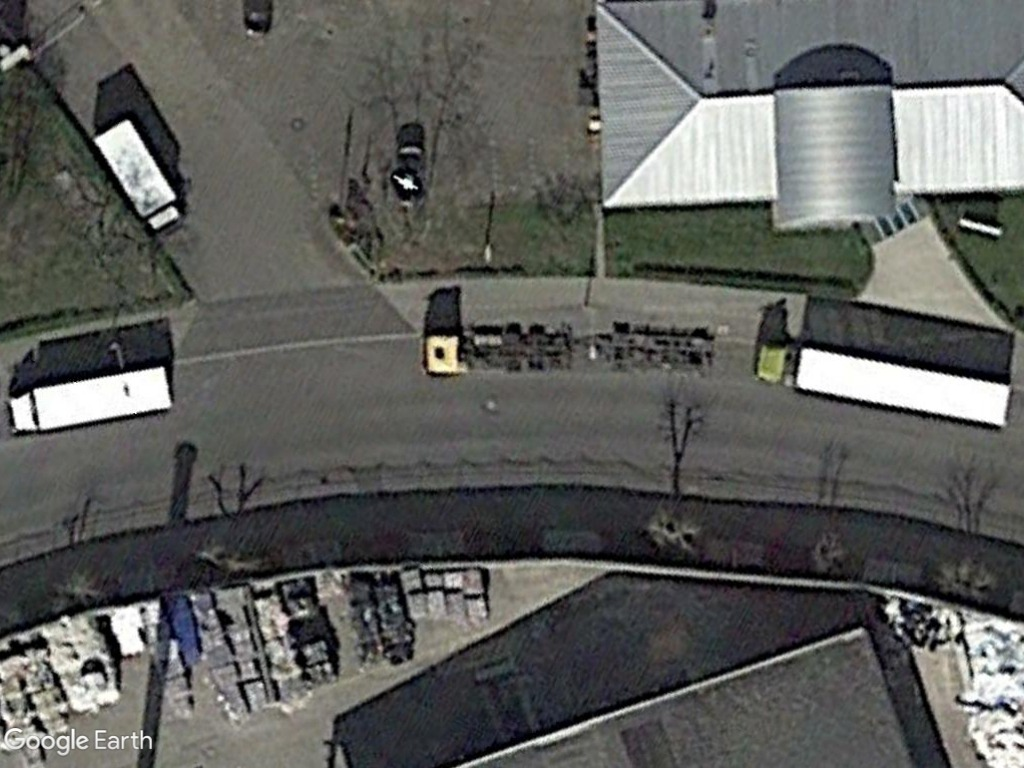longvehicle: (750, 333, 1015, 434)
truck: (4, 363, 178, 439), (87, 114, 184, 236)
